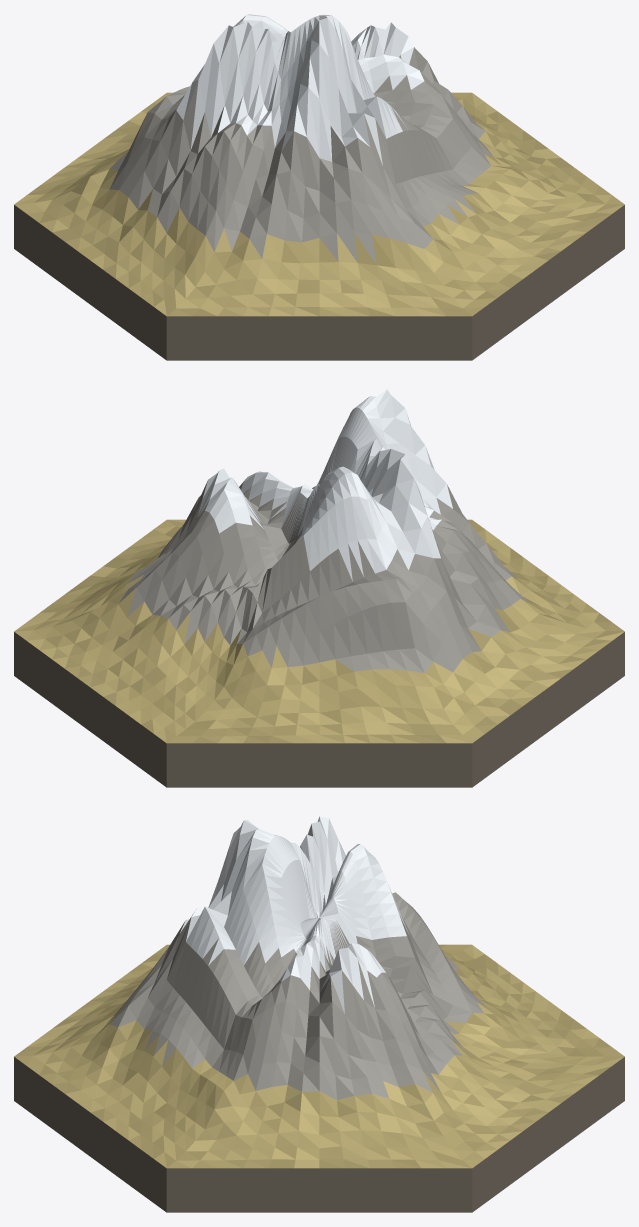
File: TERRAIN_PLAINS_MOUNTAIN_v00.fbx
3 renders of one model, top to bottom at view 1: azimuth 30°, elevation 25°; view 2: azimuth 150°, elevation 25°; view 3: azimuth 270°, elevation 25°, orthographic.
Visible parts, largest first — view 1: TERRAIN_PLAINS_MOUNTAIN_v00; view 2: TERRAIN_PLAINS_MOUNTAIN_v00; view 3: TERRAIN_PLAINS_MOUNTAIN_v00.
Boxes of the visible parts, x1,y1,x2,y2 form: TERRAIN_PLAINS_MOUNTAIN_v00: (14,14,624,360); TERRAIN_PLAINS_MOUNTAIN_v00: (14,389,624,787); TERRAIN_PLAINS_MOUNTAIN_v00: (14,816,624,1212).
Bounding box in the file's own units: 173 × 96.15 × 200.
